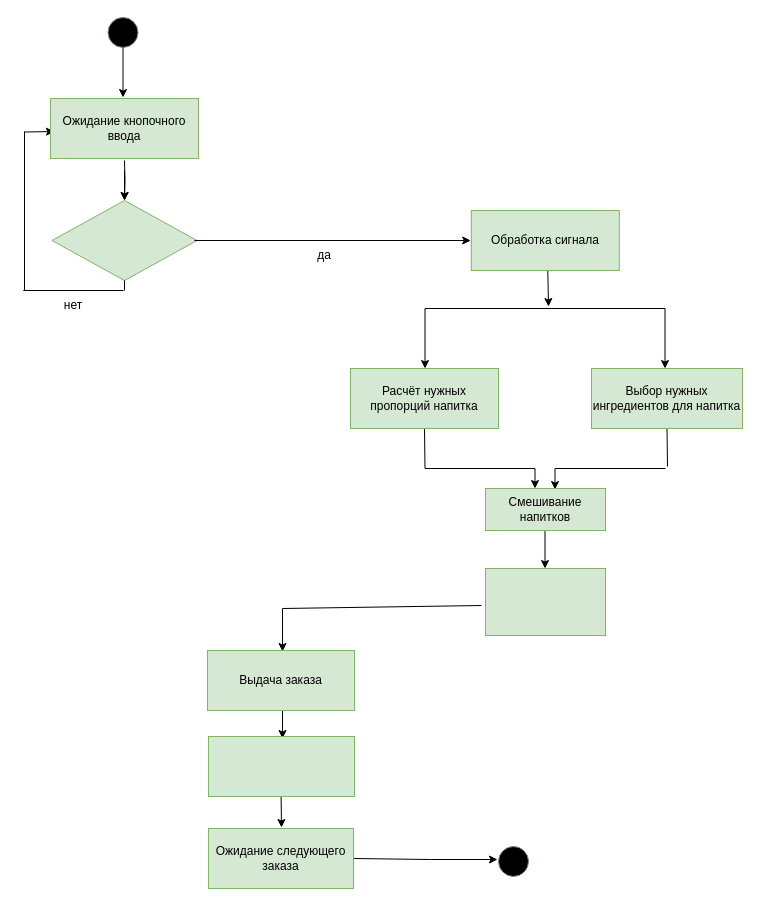
Some shapes in this 760 by 906 pixel diagram are drawn without their labels. The shapes that lost their labels are listed below. From the top down, each one's centre as x and y in pixels, then its label:
the point at 124,240: Команда получена ?
the point at 545,602: Напиток выполнен
the point at 281,766: Возвращение автомата в начальное состояние
